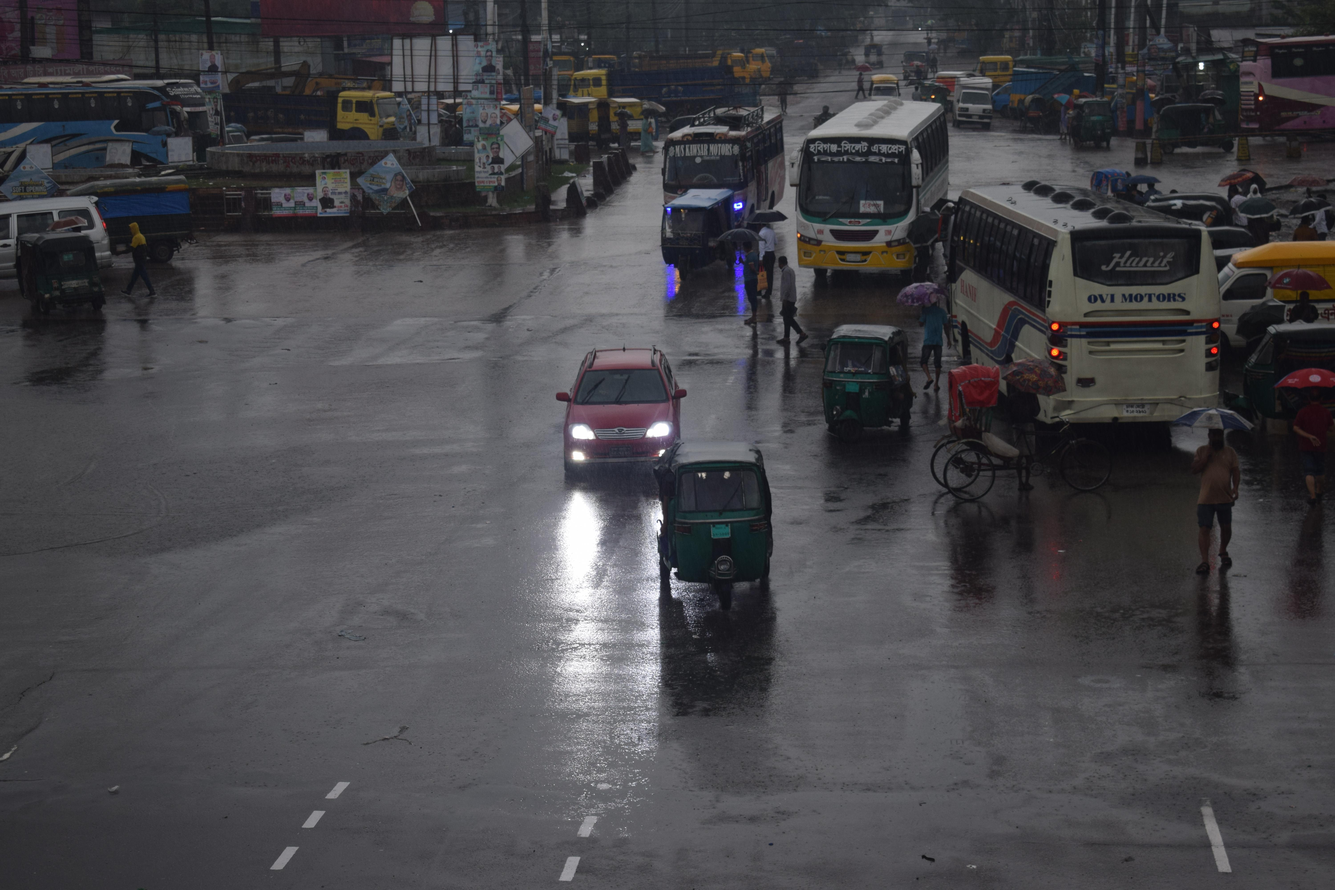Bus: (922, 153, 1239, 470), (782, 75, 978, 314), (0, 53, 216, 193), (635, 81, 790, 241), (1201, 4, 1335, 174)
Car: (919, 341, 1135, 534), (524, 325, 704, 488), (631, 167, 755, 284), (0, 185, 122, 286), (937, 63, 1005, 140)
Truck: (216, 77, 421, 161), (549, 57, 755, 122)
